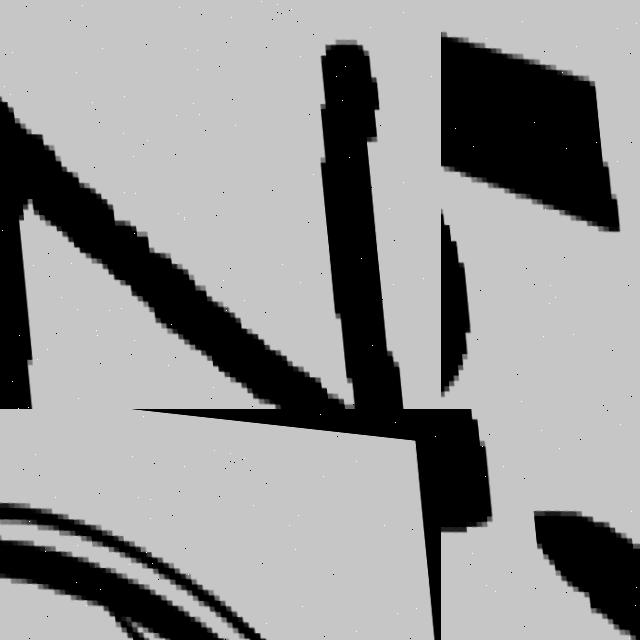6: (0, 434, 425, 640)
I: (441, 409, 640, 640)
K: (441, 0, 640, 409)
Z: (0, 0, 441, 409)
